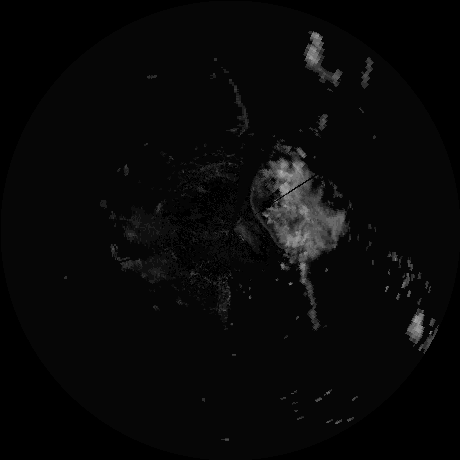frontgust: (249, 180, 264, 221)
